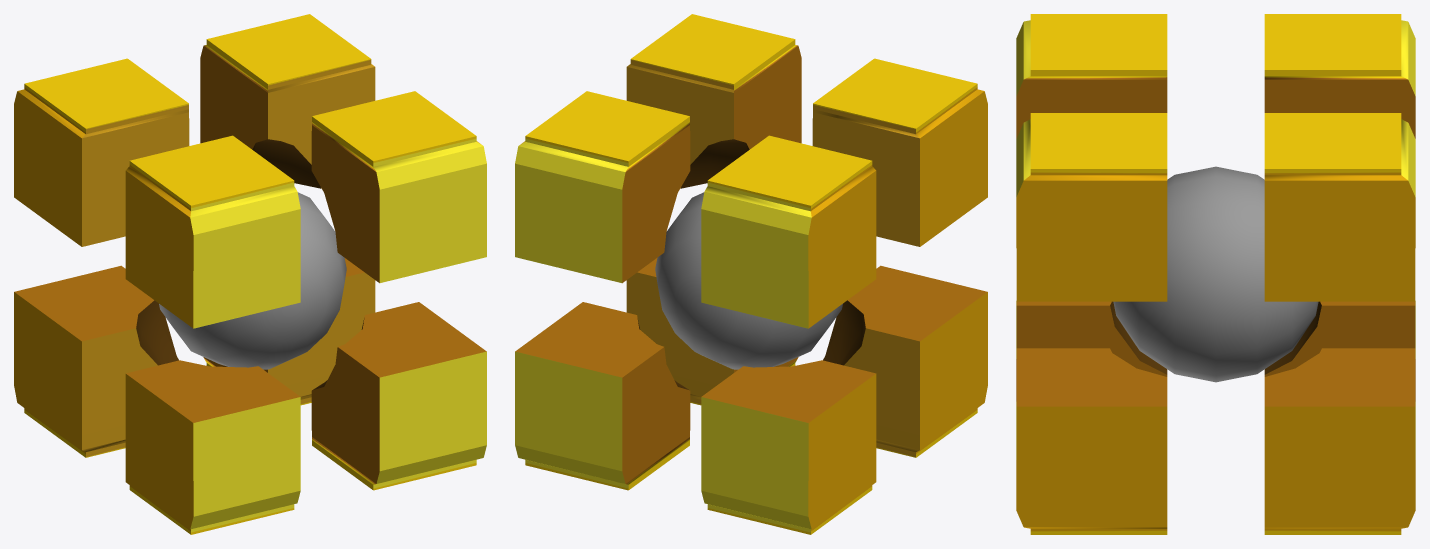
3 views of the same model, side by side, from view 1: azimuth 30°, elevation 25°; view 2: azimuth 150°, elevation 25°; view 3: azimuth 270°, elevation 25° (orthographic). The views are drawn at different scales.
Visible parts, largest first — view 1: Object009; view 2: Object009; view 3: Object009.
Part boxes in pixels (x1=…): Object009: x1=14, y1=14, x2=486, y2=534; Object009: x1=515, y1=14, x2=987, y2=534; Object009: x1=1016, y1=14, x2=1415, y2=534.
Size of the model in its own units: 35.47 by 38.02 by 37.58.
2 materials, 1 textured.
